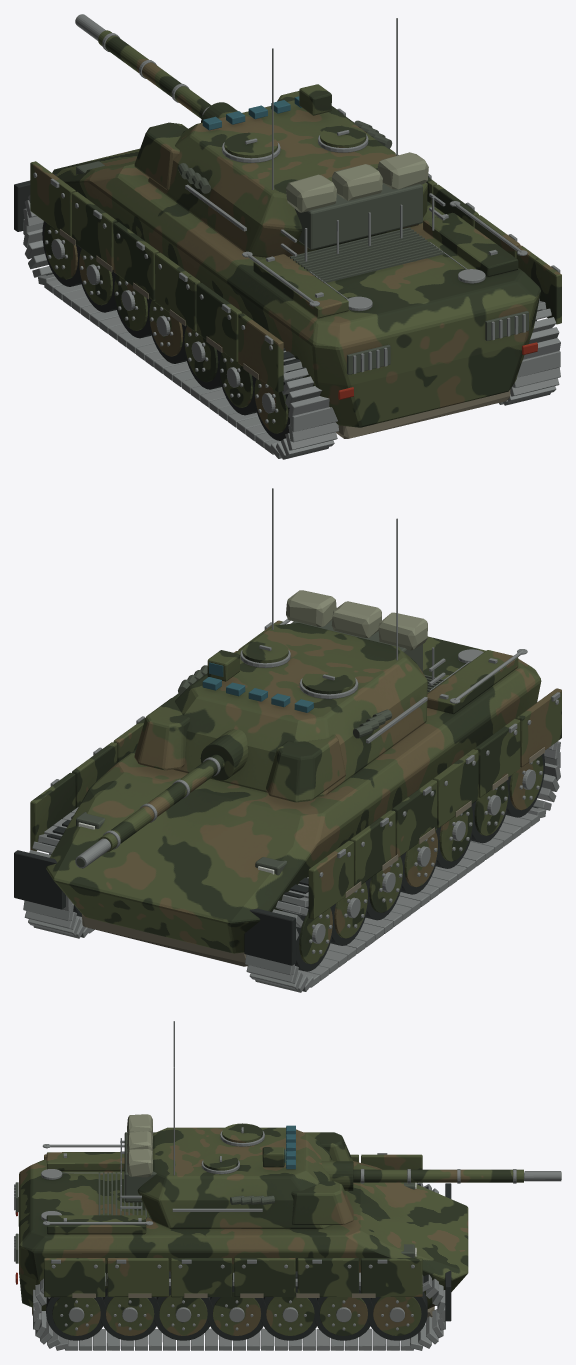
Rendered from mbt-lod1.glb.
3 views of the same model, one above another, from view 1: azimuth 30°, elevation 25°; view 2: azimuth 150°, elevation 25°; view 3: azimuth 270°, elevation 25° (orthographic). The views are drawn at different scales.
Visible parts, largest first — view 1: Chassis NATO olive paint, Turret NATO olive paint, Tracks.L Worn track steel, Chassis Dark camouflage paint, Turret Dark camouflage paint, Turret Canvas stowage, Chassis Worn track steel, Tracks.R Worn track steel, Turret Worn track steel, Gun NATO olive paint, Chassis Dried lower hull mud, Road wheel (+9 smaller); view 2: Chassis NATO olive paint, Turret NATO olive paint, Tracks.L Worn track steel, Chassis Track rubber, Turret Canvas stowage, Gun NATO olive paint, Chassis Dried lower hull mud, Tracks.R Worn track steel, Turret Worn track steel, Chassis Worn track steel, Turret Dark camouflage paint, Turret Coated optical glass (+9 smaller); view 3: Chassis NATO olive paint, Turret NATO olive paint, Tracks.R Worn track steel, Gun NATO olive paint, Chassis Worn track steel, Turret Canvas stowage, Turret Worn track steel, Road wheel.013, Road wheel.010, Road wheel.011, Road wheel.012, Road wheel.009 (+15 smaller).
Part boxes in pixels (bbox=[...]): Chassis NATO olive paint: bbox=[30, 111, 561, 427]; Turret NATO olive paint: bbox=[134, 84, 427, 257]; Tracks.L Worn track steel: bbox=[23, 195, 338, 459]; Chassis Dark camouflage paint: bbox=[76, 161, 528, 374]; Turret Dark camouflage paint: bbox=[178, 120, 422, 249]; Turret Canvas stowage: bbox=[286, 152, 428, 212]; Chassis Worn track steel: bbox=[33, 108, 560, 373]; Tracks.R Worn track steel: bbox=[499, 299, 560, 405]; Turret Worn track steel: bbox=[185, 18, 445, 261]; Gun NATO olive paint: bbox=[98, 30, 237, 122]; Chassis Dried lower hull mud: bbox=[59, 229, 510, 438]; Road wheel: bbox=[254, 378, 288, 433]; Chassis NATO olive paint: bbox=[30, 620, 561, 953]; Turret NATO olive paint: bbox=[134, 623, 427, 802]; Tracks.L Worn track steel: bbox=[245, 741, 560, 992]; Chassis Track rubber: bbox=[14, 850, 296, 965]; Turret Canvas stowage: bbox=[286, 590, 427, 650]; Gun NATO olive paint: bbox=[98, 729, 248, 852]; Chassis Dried lower hull mud: bbox=[82, 747, 544, 966]; Tracks.R Worn track steel: bbox=[23, 807, 94, 938]; Turret Worn track steel: bbox=[240, 488, 445, 743]; Chassis Worn track steel: bbox=[50, 619, 560, 877]; Turret Dark camouflage paint: bbox=[178, 620, 422, 738]; Turret Coated optical glass: bbox=[202, 662, 313, 712]; Chassis NATO olive paint: bbox=[18, 1152, 468, 1310]; Turret NATO olive paint: bbox=[137, 1123, 353, 1228]; Tracks.R Worn track steel: bbox=[33, 1272, 445, 1350]; Gun NATO olive paint: bbox=[321, 1161, 523, 1190]; Chassis Worn track steel: bbox=[14, 1144, 414, 1268]; Turret Canvas stowage: bbox=[127, 1114, 152, 1177]; Turret Worn track steel: bbox=[120, 1021, 264, 1211]; Road wheel.013: bbox=[373, 1297, 421, 1335]; Road wheel.010: bbox=[212, 1292, 260, 1335]; Road wheel.011: bbox=[266, 1292, 314, 1335]; Road wheel.012: bbox=[319, 1297, 367, 1335]; Road wheel.009: bbox=[159, 1295, 207, 1335].
Size of the model in its own units: 4.1 by 4.58 by 8.82.
Materials: 9 (1 with a texture image).
